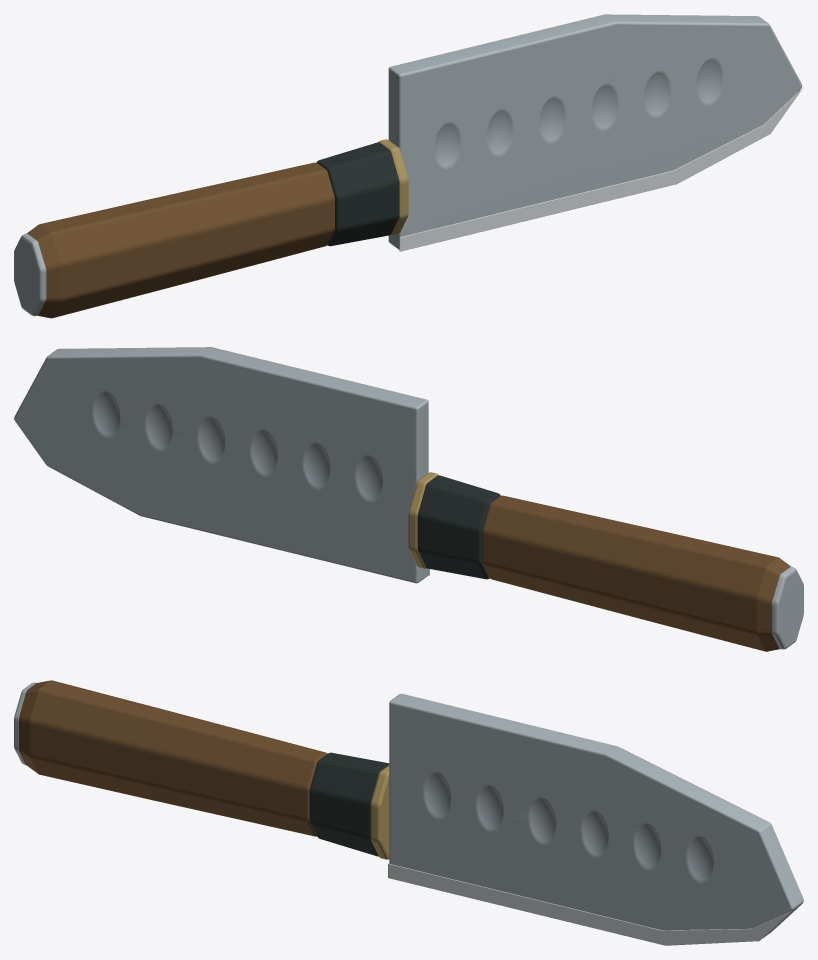
Rendered from santoku.glb.
The picture shows the model from 3 angles, top to bottom: view 1: azimuth 30°, elevation 25°; view 2: azimuth 150°, elevation 25°; view 3: azimuth 330°, elevation 25°; orthographic projection.
Parts seen in each view (by area): view 1: Tall sheepfoot Santoku blade, Octagonal tapered walnut handle, Charcoal octagonal ferrule, Santoku continuous lower honed facet, Narrow brass shoulder ring; view 2: Tall sheepfoot Santoku blade, Octagonal tapered walnut handle, Charcoal octagonal ferrule, Narrow brass shoulder ring; view 3: Tall sheepfoot Santoku blade, Octagonal tapered walnut handle, Santoku continuous lower honed facet, Charcoal octagonal ferrule, Narrow brass shoulder ring.
Boxes of the visible parts, x1,y1,x2,y2 form: Tall sheepfoot Santoku blade: (14,14,802,316); Octagonal tapered walnut handle: (27,162,334,318); Charcoal octagonal ferrule: (316,142,399,246); Santoku continuous lower honed facet: (399,87,803,251); Narrow brass shoulder ring: (378,139,408,235); Tall sheepfoot Santoku blade: (14,347,803,649); Octagonal tapered walnut handle: (482,495,790,651); Charcoal octagonal ferrule: (417,475,500,579); Narrow brass shoulder ring: (408,472,438,568); Tall sheepfoot Santoku blade: (14,682,803,938); Octagonal tapered walnut handle: (18,680,327,836); Santoku continuous lower honed facet: (388,863,792,945); Charcoal octagonal ferrule: (309,752,389,856); Narrow brass shoulder ring: (370,765,389,859).
Bounding box in the file's own units: 2.06 × 0.45 × 0.1441.
